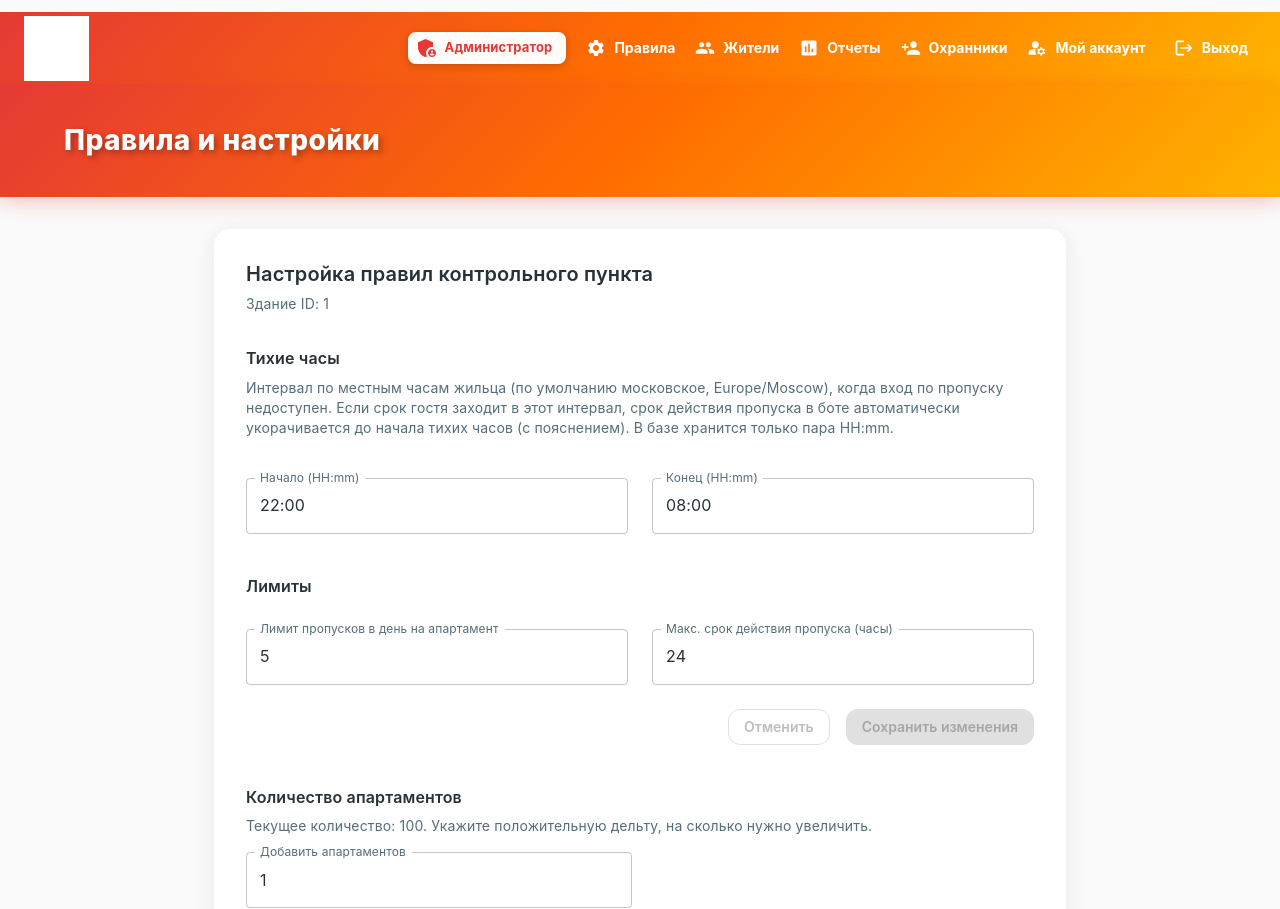
Scenario: AdminRulesPage › submits updated rules and shows success
Type "23:00" into the field showing "22:00" at point(437, 506), box [246, 478, 628, 534]
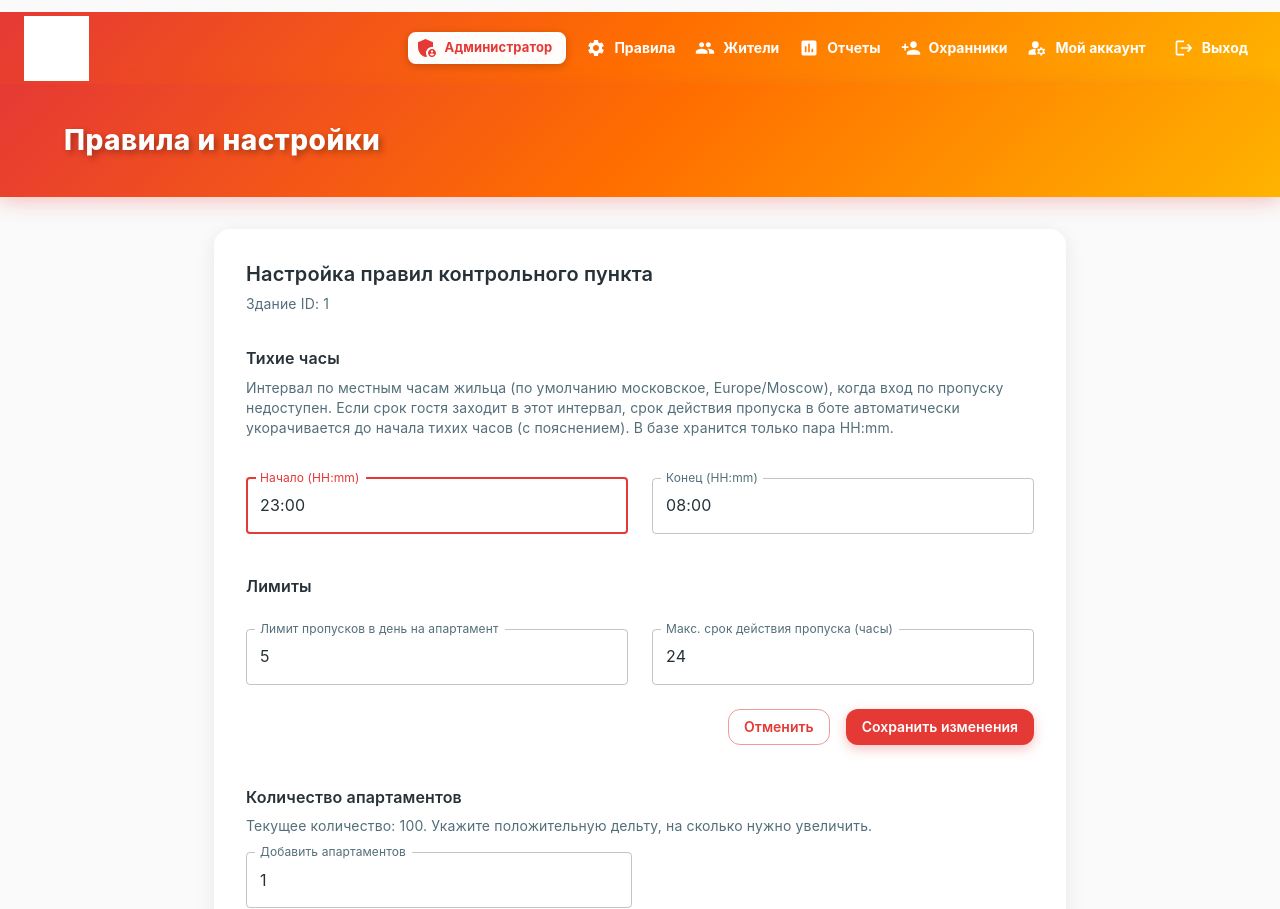
Click the button "Сохранить изменения" at point(940, 727), box [846, 709, 1034, 745]
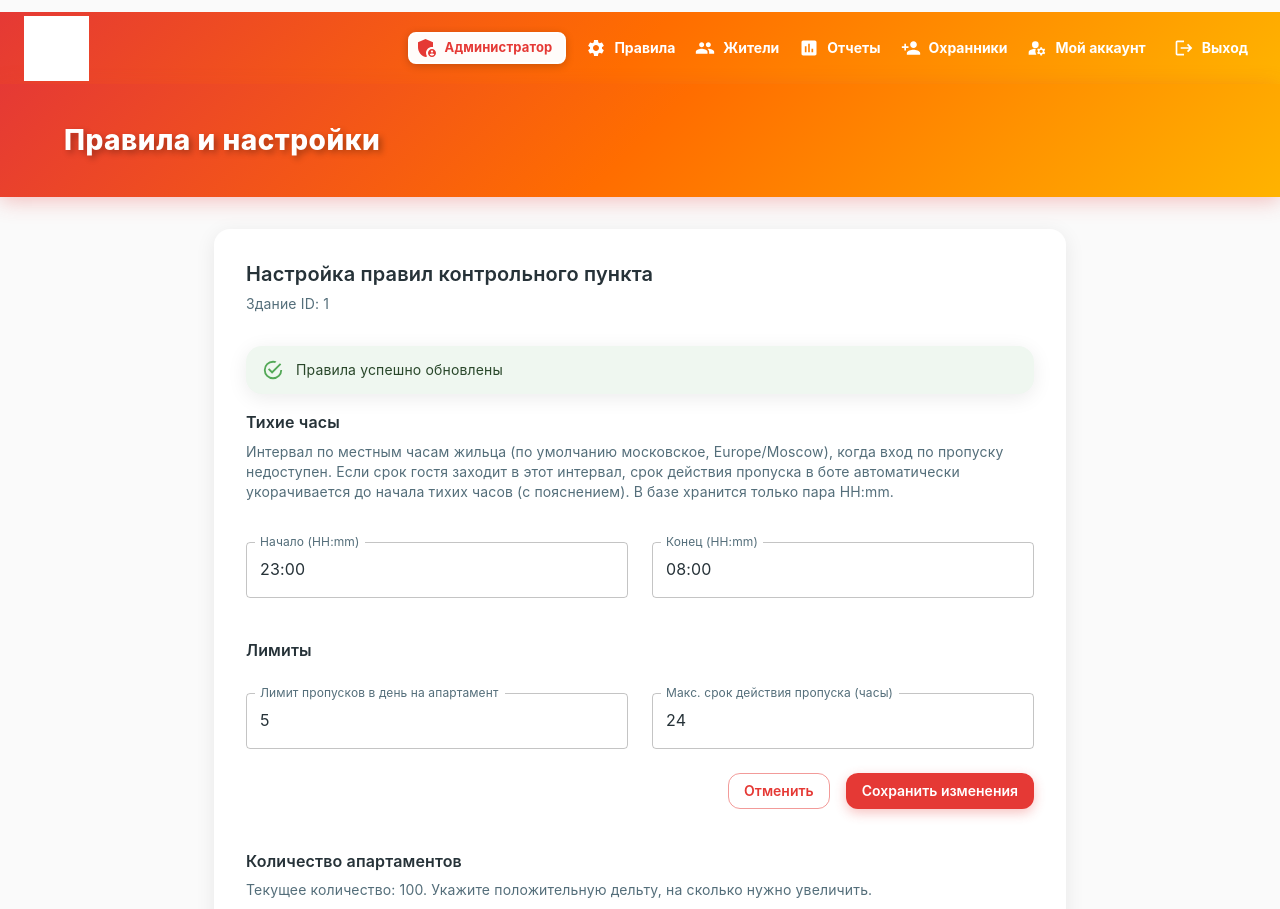
Check: the text "Правила успешно обновлены" is shown, box [296, 361, 503, 378]
